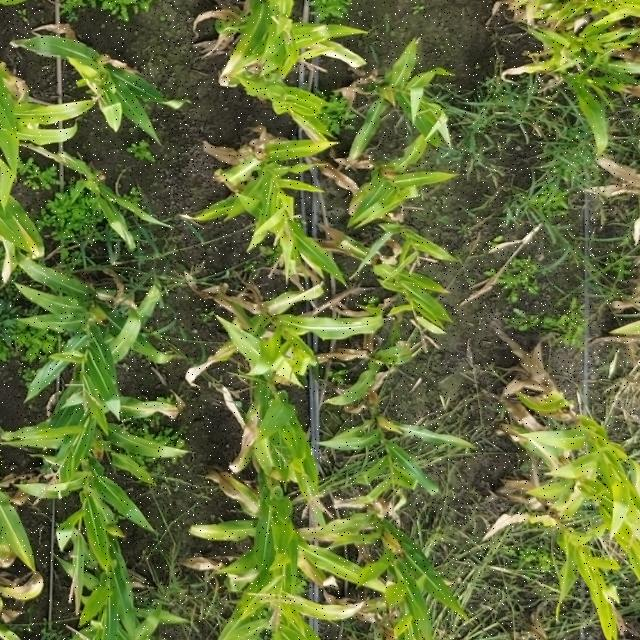northern-leaf-blight: (226, 482, 266, 518), (559, 468, 589, 515), (120, 396, 171, 421), (268, 284, 311, 313), (101, 287, 146, 308)
